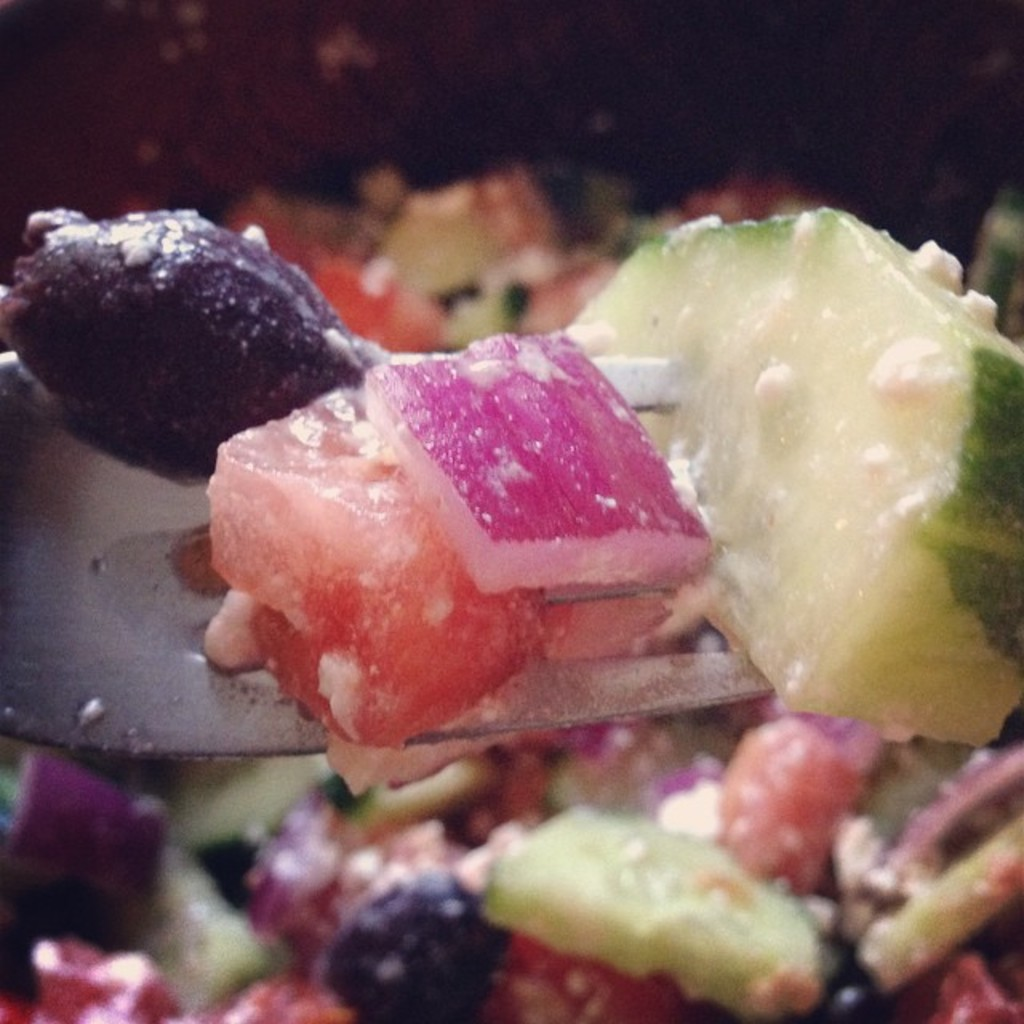salad: (0, 115, 1022, 1022)
